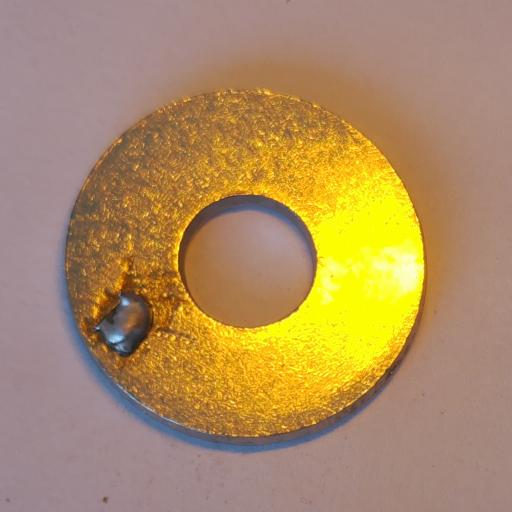excess_material: (93, 291, 152, 357)
